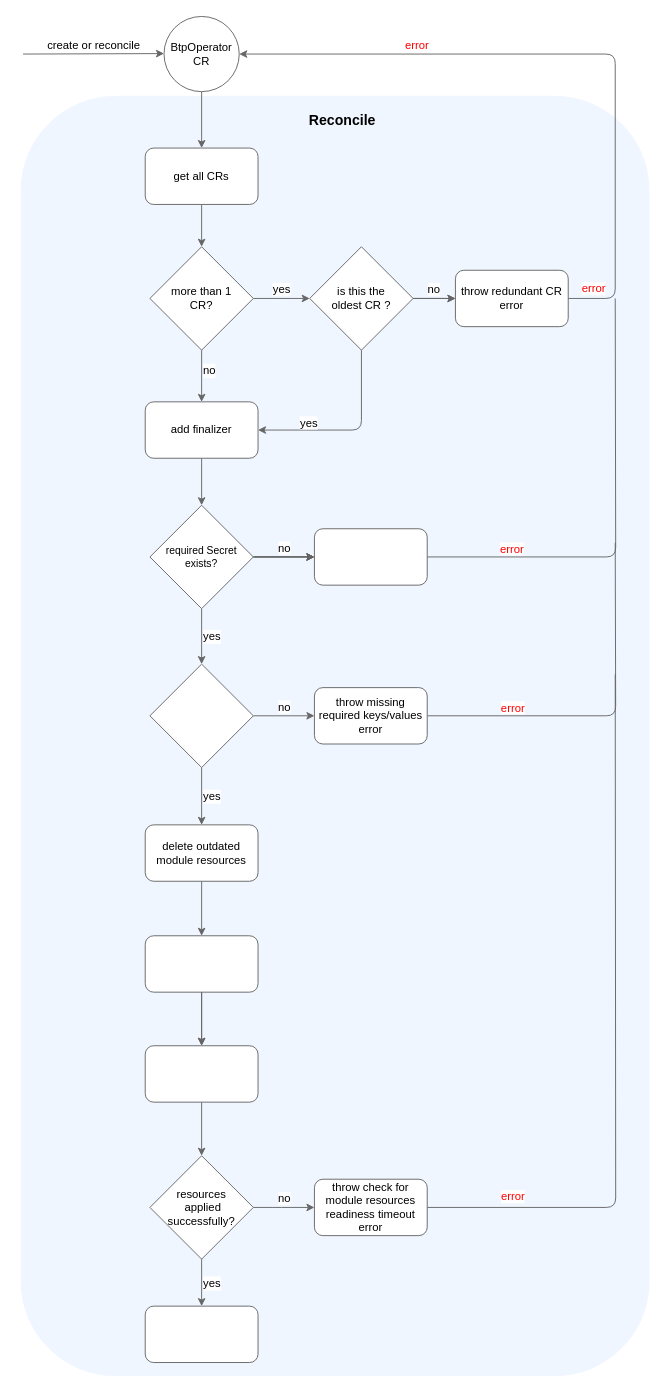
Some shapes in this 666 by 1392 pixel diagram are drawn without their labels. The centre of each missing label's shape, as x and y in pixels:
apply module resources: point 201,1073
prepare current module resources (add labels and overrides): point 201,963
Secret is correct?: point 201,715
set Ready state in CR: point 201,1334
throw missing required Secret error: point 370,556
